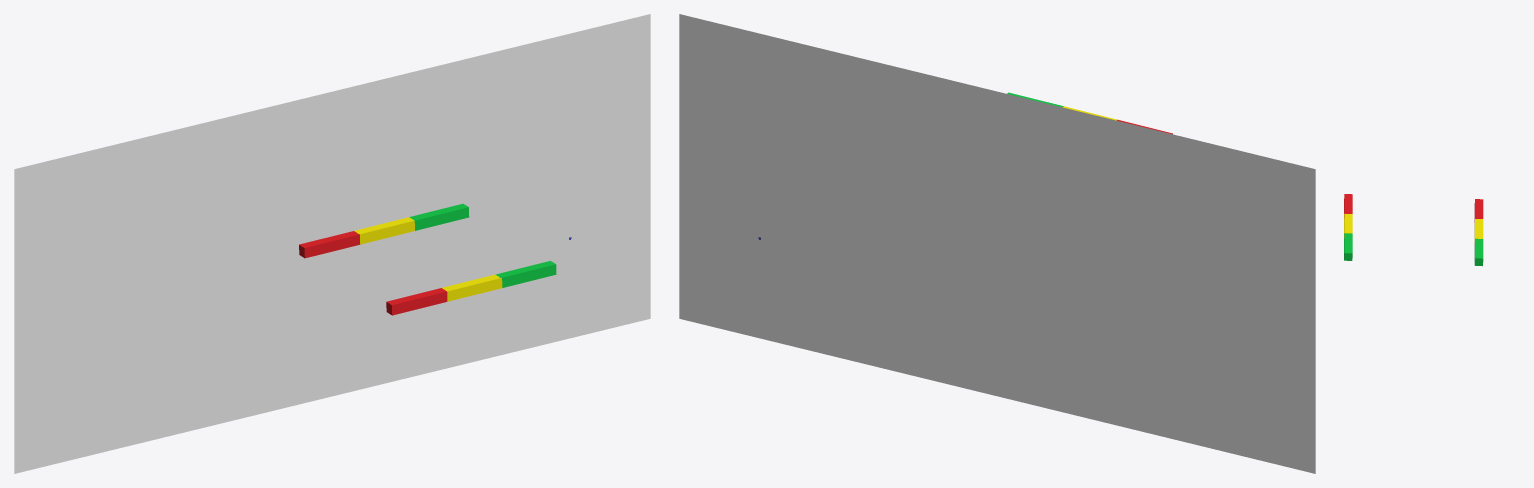
Rendered from gabh.glb.
The picture shows the model from 3 angles, left to right: view 1: azimuth 30°, elevation 25°; view 2: azimuth 150°, elevation 25°; view 3: azimuth 270°, elevation 25°; orthographic projection. The views are drawn at different scales.
Visible parts, largest first — view 1: mesh_id1, mesh_id224, mesh_id181, mesh_id170, mesh_id222, mesh_id223, mesh_id161; view 2: mesh_id1; view 3: mesh_id161, mesh_id223, mesh_id181, mesh_id170.
Boxes of the visible parts, x1=… form: mesh_id1: x1=14, y1=14, x2=650, y2=473; mesh_id224: x1=386, y1=288, x2=447, y2=315; mesh_id181: x1=299, y1=231, x2=360, y2=258; mesh_id170: x1=354, y1=217, x2=414, y2=244; mesh_id222: x1=442, y1=274, x2=502, y2=301; mesh_id223: x1=495, y1=261, x2=556, y2=287; mesh_id161: x1=409, y1=203, x2=469, y2=230; mesh_id1: x1=679, y1=14, x2=1315, y2=473; mesh_id161: x1=1474, y1=238, x2=1483, y2=266; mesh_id223: x1=1344, y1=233, x2=1352, y2=260; mesh_id181: x1=1474, y1=199, x2=1483, y2=222; mesh_id170: x1=1474, y1=219, x2=1483, y2=242.
Size of the model in its own units: 1.28 by 0.588 by 0.4115.
4 materials, 4 textured.
